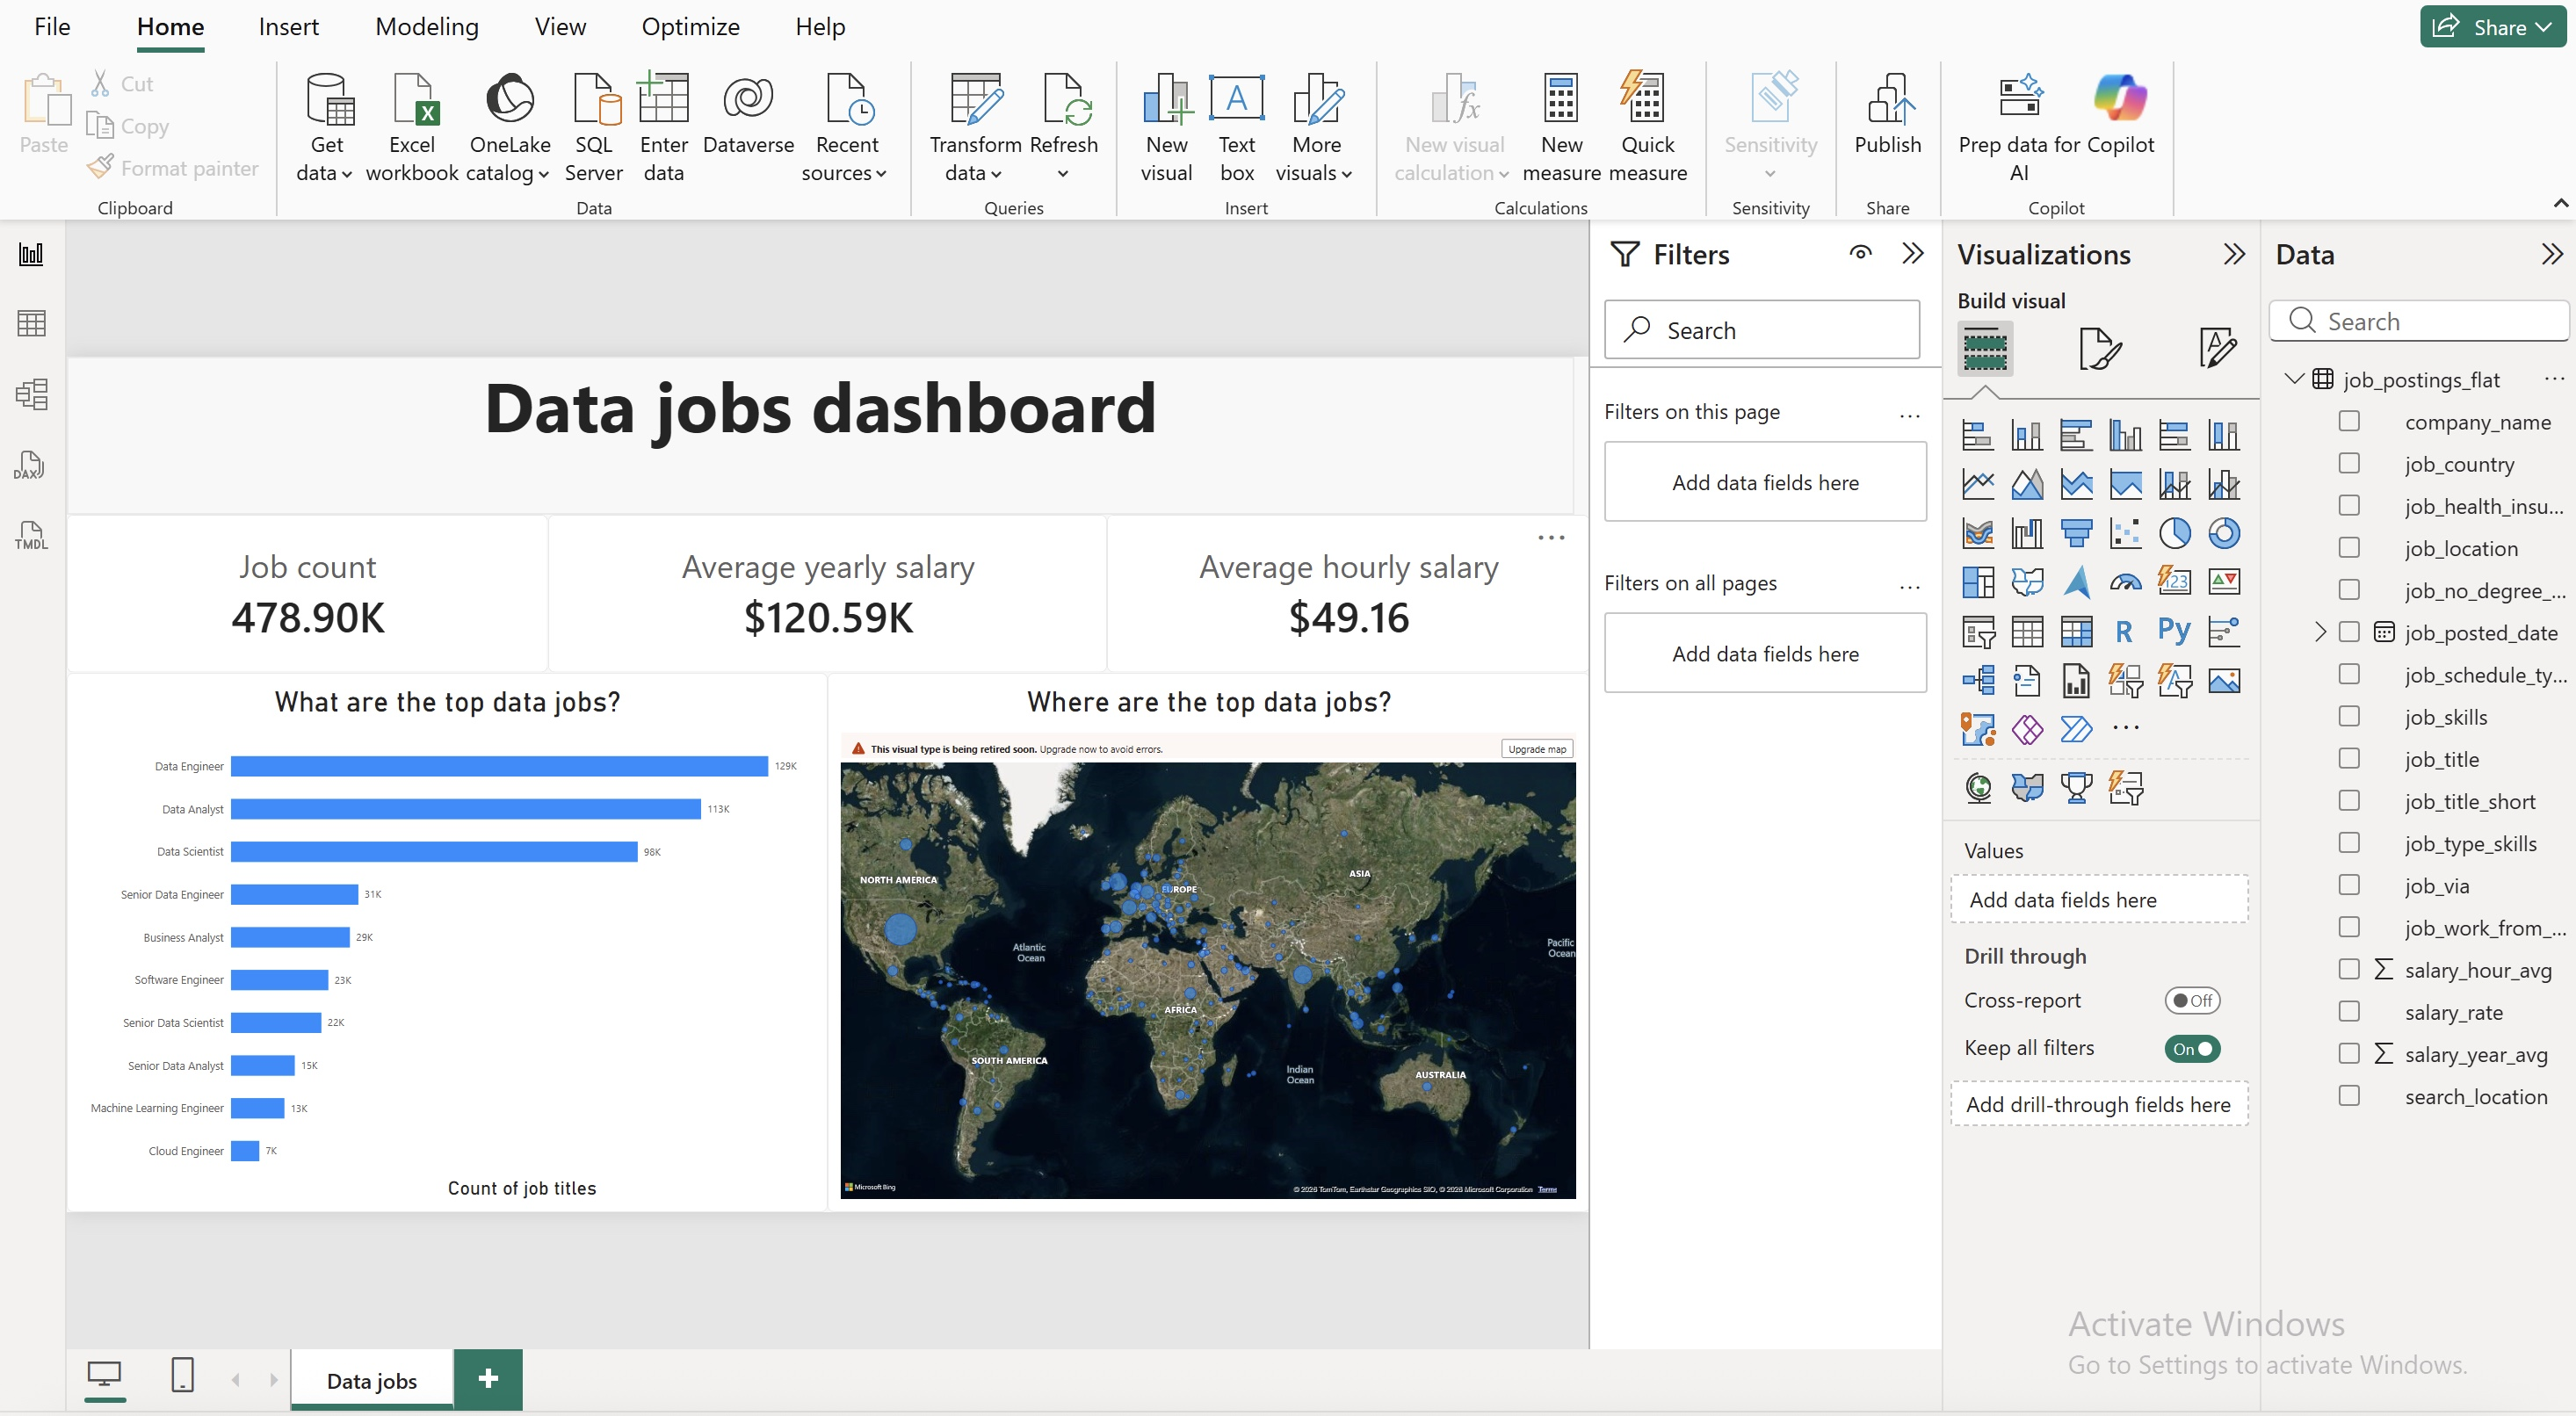

This screenshot's page, from the dashboard's own definition file:
{"tool":"powerbi","page":{"name":"Data jobs","canvas":[1920,1080],"ordinal":0},"visuals":[{"type":"cardVisual","fields":{"Data":["Avg(job_postings_flat.salary_year_avg)"]},"box":[607.5,199.5,705,199.5],"z":0},{"type":"cardVisual","fields":{"Data":["CountNonNull(job_postings_flat.job_title_short)"]},"box":[0,199.5,607.5,199.5],"z":1000},{"type":"cardVisual","fields":{"Data":["Avg(job_postings_flat.salary_hour_avg)"]},"box":[1312.5,199.5,609.7,199.5],"z":2000},{"type":"clusteredBarChart","title":"What are the top data jobs?","fields":{"Category":["job_postings_flat.job_title_short"],"Y":["CountNonNull(job_postings_flat.job_title_short)"]},"box":[0,399.1,960,680.6],"z":3000},{"type":"map","title":"Where are the top data jobs?","fields":{"Category":["job_postings_flat.job_country"],"Size":["CountNonNull(job_postings_flat.job_title_short)"]},"box":[960,399.1,962.2,680.6],"z":4000},{"type":"textbox","box":[0,0,1902.3,199.5],"z":5000}]}

Visuals, with their boxes on the page's 1920x1080 design canvas (x1, y1, x2, y2). These are canvas units, not pixel positions in the 2576x1416 screenshot, which may show the page scaled, cropped or inside an application window:
cardVisual - Avg(job_postings_flat.salary_year_avg): box(608, 200, 1312, 399)
cardVisual - CountNonNull(job_postings_flat.job_title_short): box(0, 200, 608, 399)
cardVisual - Avg(job_postings_flat.salary_hour_avg): box(1312, 200, 1922, 399)
"What are the top data jobs?" clusteredBarChart: box(0, 399, 960, 1080)
"Where are the top data jobs?" map: box(960, 399, 1922, 1080)
textbox: box(0, 0, 1902, 200)
